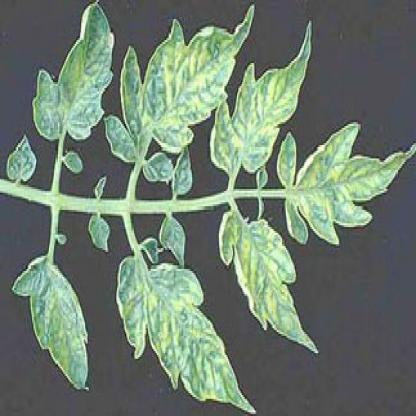tomato leaf yellow virus: (109, 4, 254, 177), (107, 254, 255, 414), (207, 19, 314, 183), (278, 118, 406, 254), (214, 210, 325, 355), (31, 10, 112, 156), (13, 250, 90, 389)
